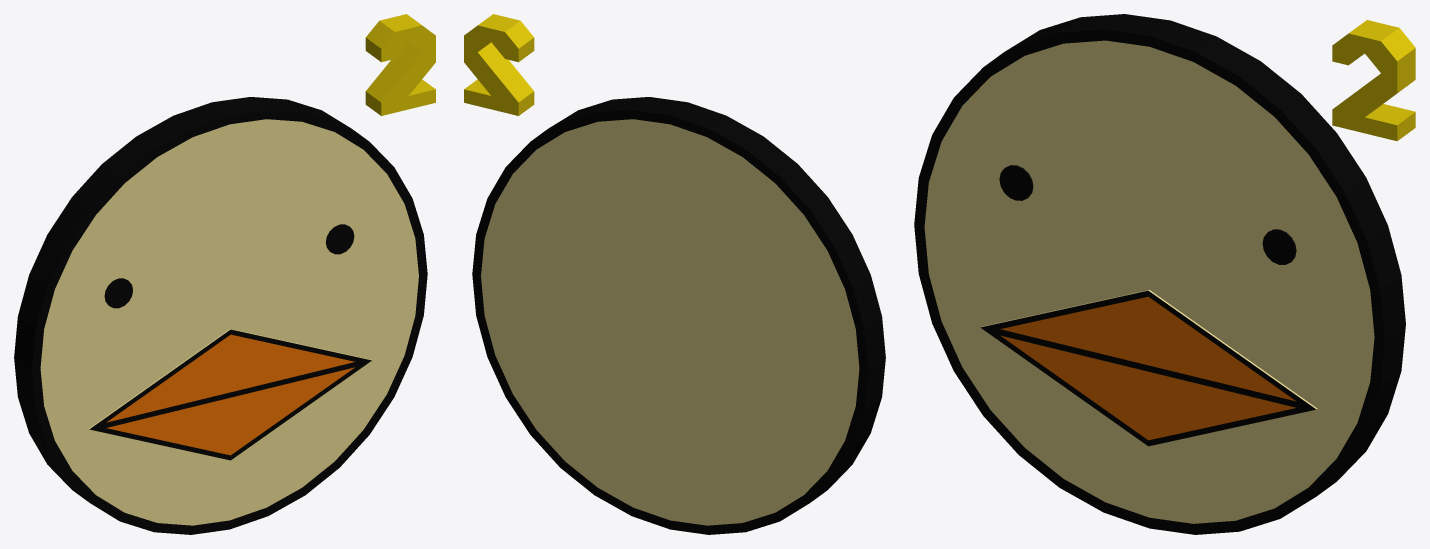
Rendered from MinigameTrigger21.fbx.
3 views of the same model, side by side, from view 1: azimuth 30°, elevation 25°; view 2: azimuth 150°, elevation 25°; view 3: azimuth 330°, elevation 25° (orthographic). The views are drawn at different scales.
Visible parts, largest first — view 1: 실린더; view 2: 실린더; view 3: 실린더.
Boxes of the visible parts, <box> form: 실린더: <box>14,14,435,534</box>; 실린더: <box>464,14,885,534</box>; 실린더: <box>914,14,1415,534</box>.
Size of the model in its own units: 426 by 458 by 35.
